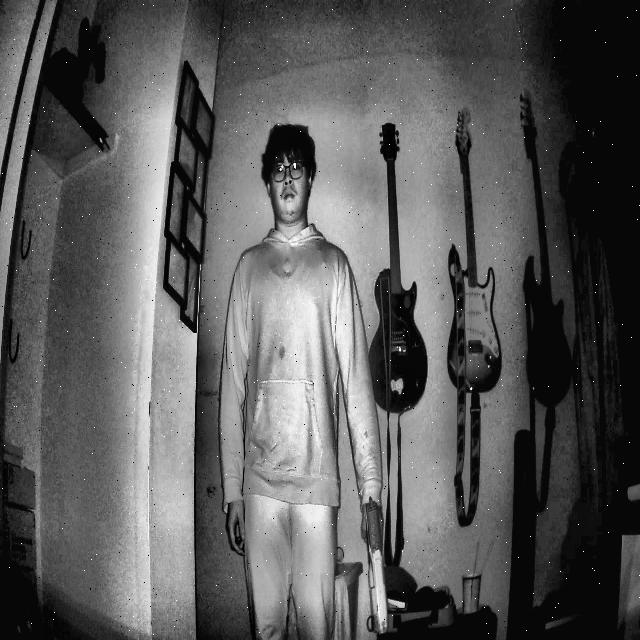Nerf_Blaster: (344, 474, 399, 640)
